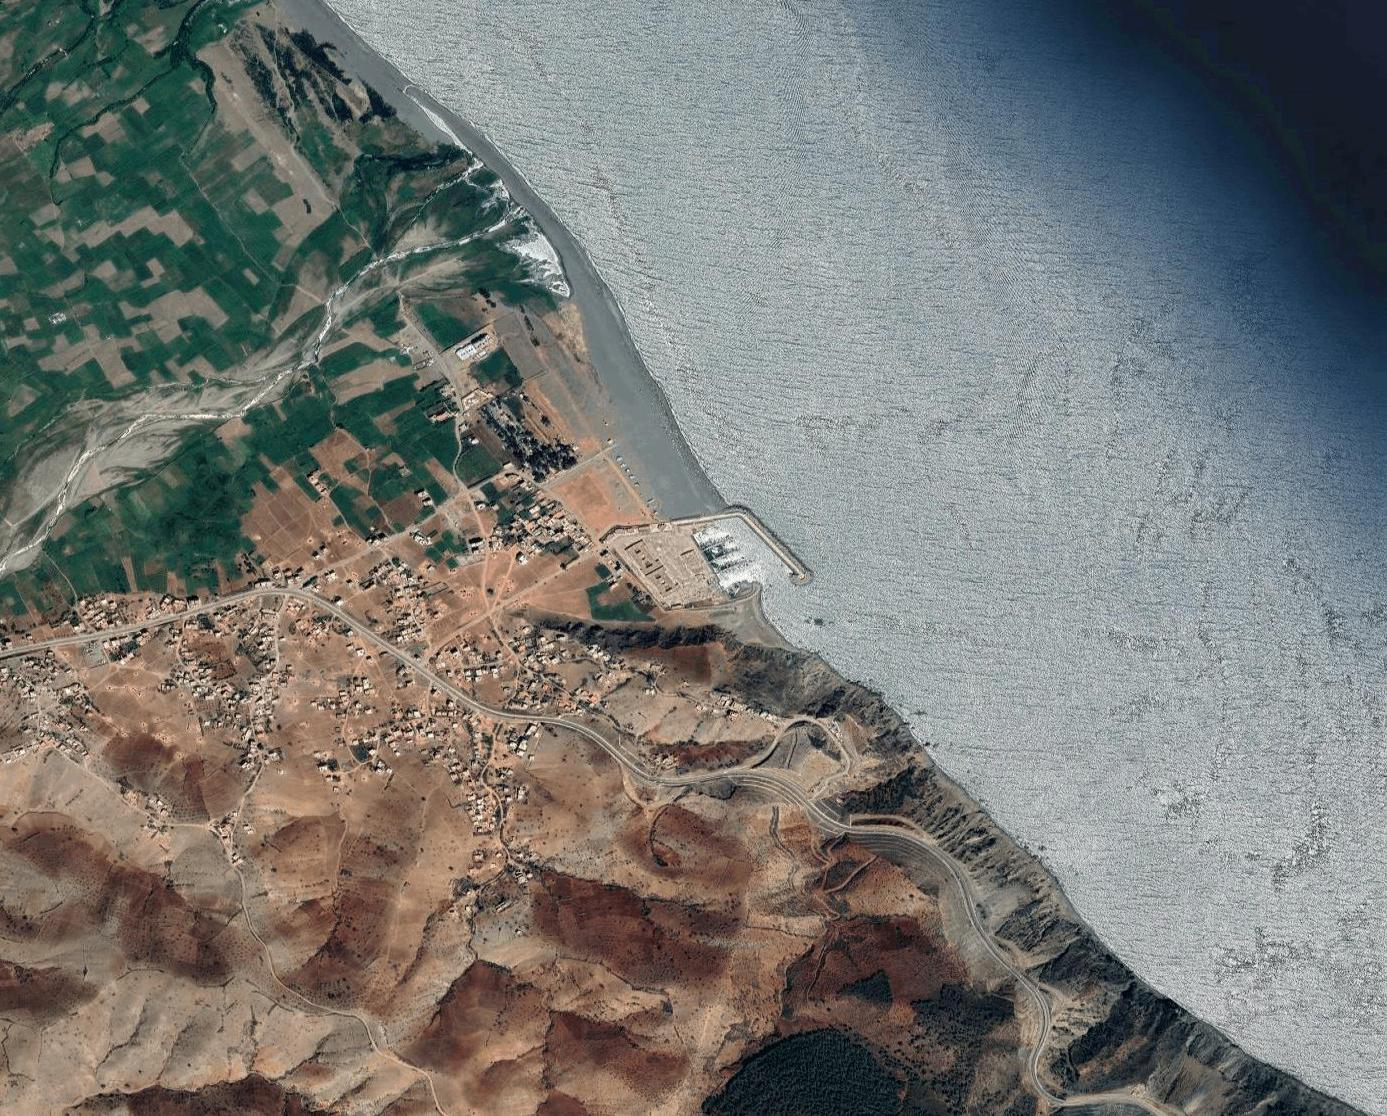harbor: (610, 491, 819, 622)
motorway: (976, 922, 1169, 1116), (834, 824, 987, 927), (657, 762, 834, 831), (511, 709, 656, 777), (280, 585, 392, 653), (397, 651, 509, 719), (141, 586, 280, 631), (1, 617, 139, 660)
